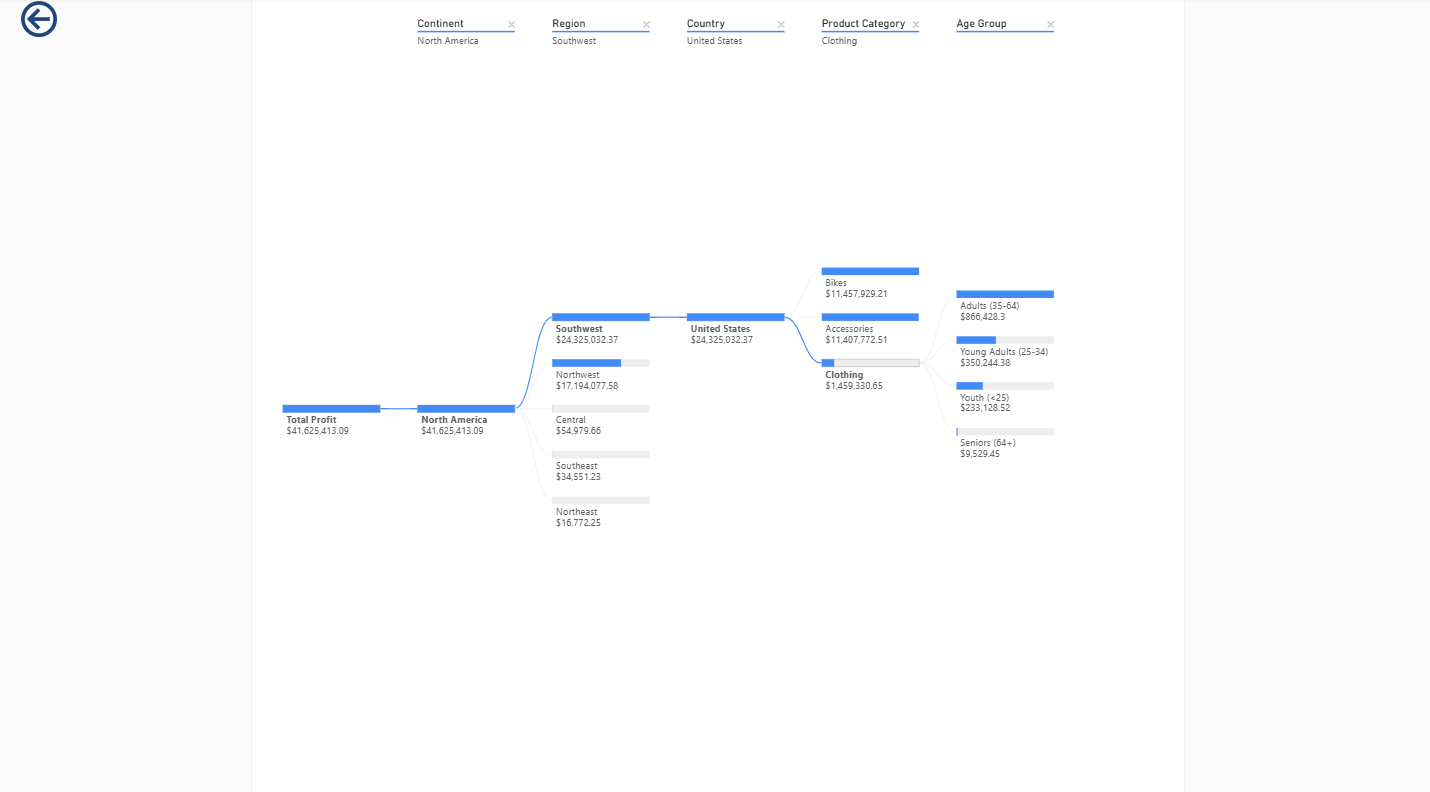

The page's visual inventory and layout, read from the dashboard file:
{"tool":"powerbi","page":{"name":"Descomposition Tree","canvas":[1920,1080],"ordinal":1},"visuals":[{"type":"actionButton","box":[0,0,106.8,57.9],"z":0},{"type":"decompositionTreeVisual","fields":{"Analyze":["Maven Cycles Sales.Total Profit"],"ExplainBy":["Maven Cycles Regions.Continent","Maven Cycles Regions.Region","Maven Cycles Regions.Country","Maven Cycles Product Categories.Product Category","Maven Cycles Age Group.Age Group"]},"box":[336.6,0,1246.9,1080.4],"z":1000}]}

Visuals, with their boxes in screenshot pixels (x1, y1, x2, y2), scaled from the page's 1920x1080 canvas onto the 1430x792 screenshot:
actionButton: 0,0,80,42
decompositionTreeVisual - Maven Cycles Sales.Total Profit x Maven Cycles Regions.Continent: 251,0,1179,791
